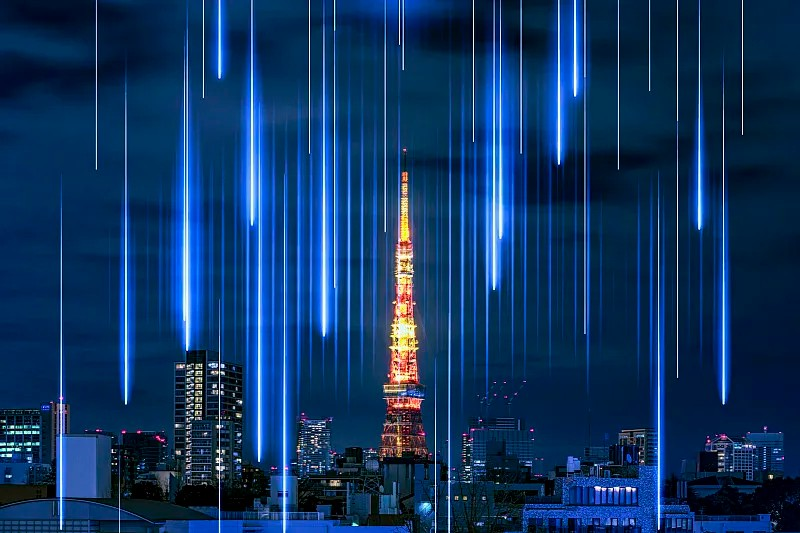Tokyo: (377, 145, 432, 461)
